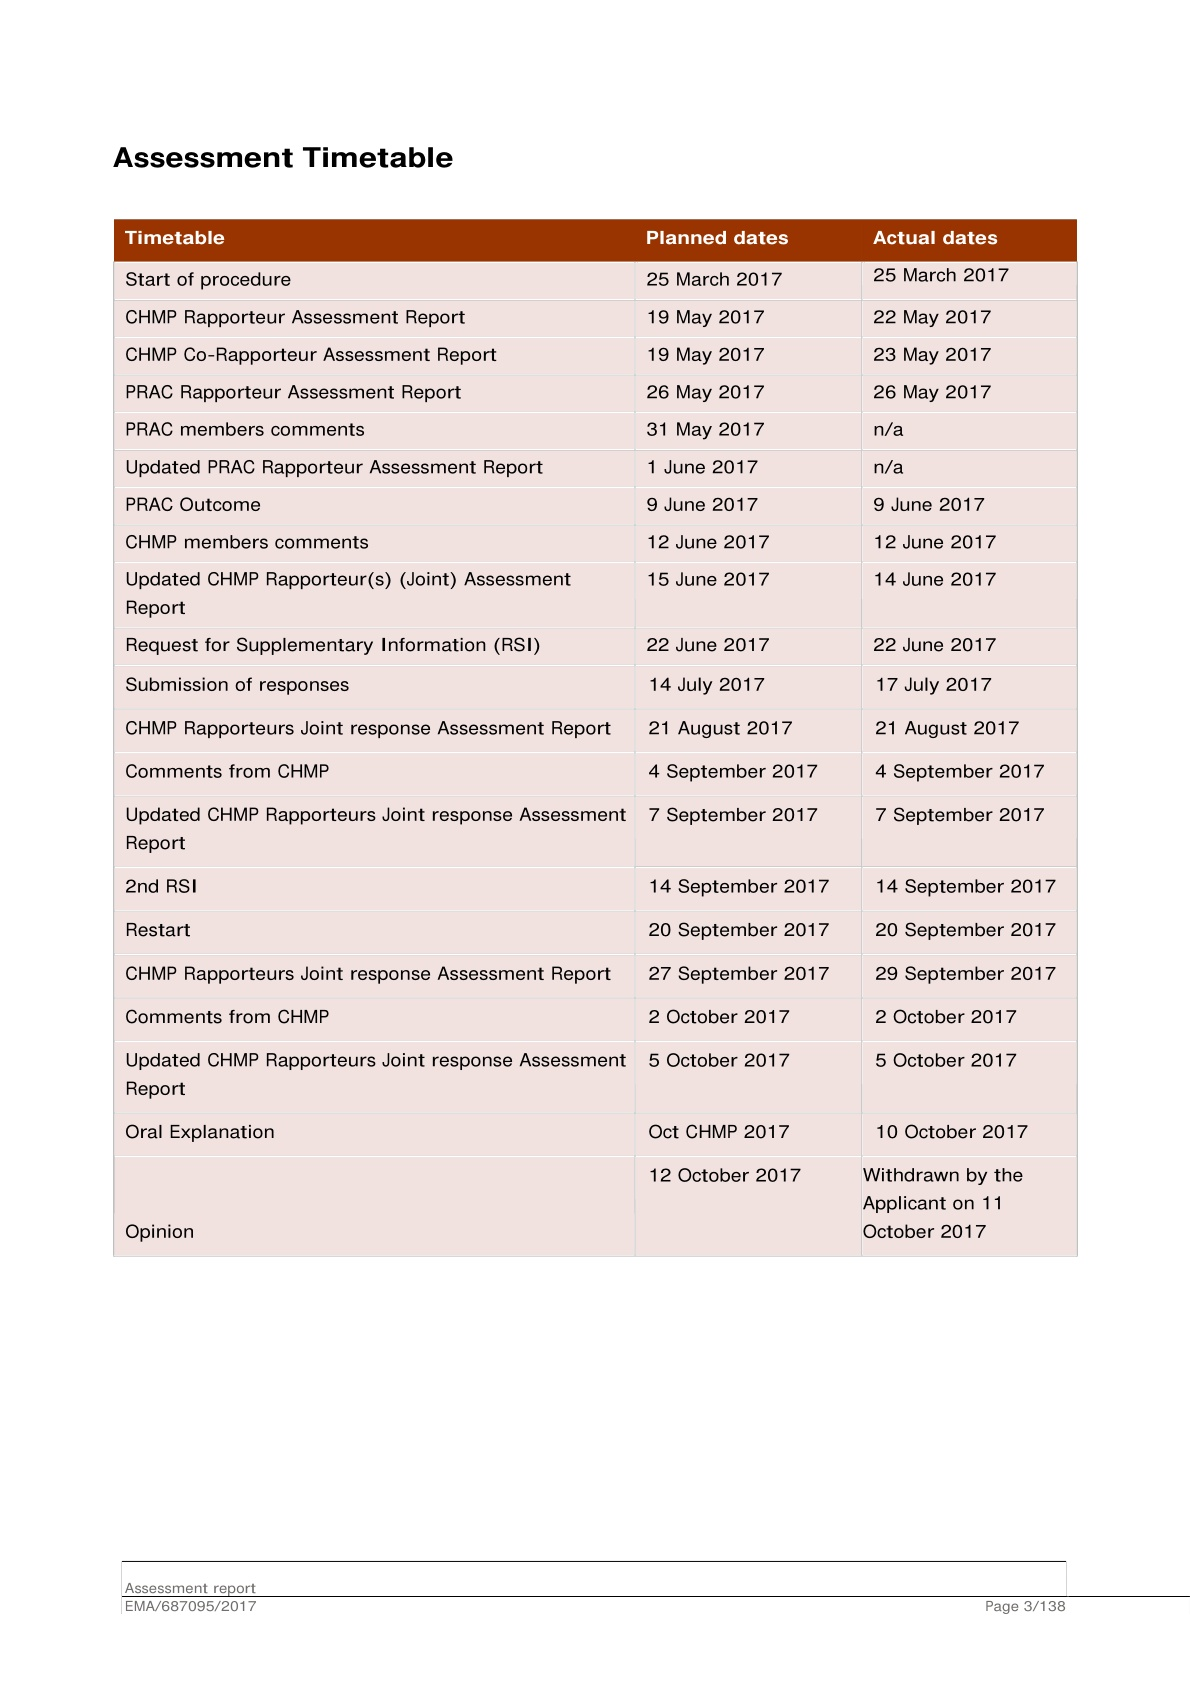full_lined: (113, 218, 1079, 1260)
